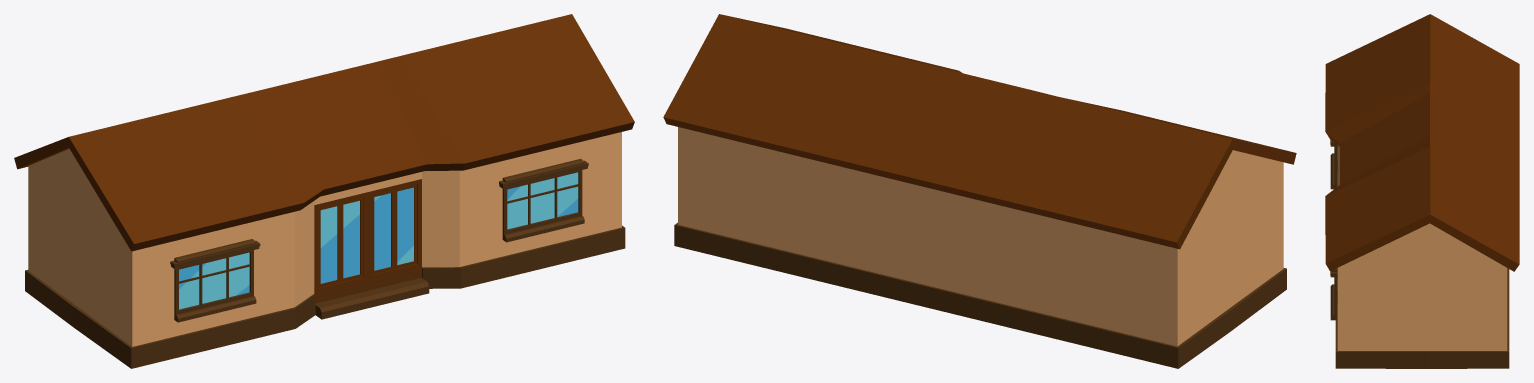
File: Env_ResidentBuilding_06.fbx
The picture shows the model from 3 angles, left to right: view 1: azimuth 30°, elevation 25°; view 2: azimuth 150°, elevation 25°; view 3: azimuth 270°, elevation 25°; orthographic projection. The views are drawn at different scales.
Visible parts, largest first — view 1: Env_ResidentBuilding_06; view 2: Env_ResidentBuilding_06; view 3: Env_ResidentBuilding_06.
Part boxes in pixels (left/top/right/bottom): Env_ResidentBuilding_06: left=14, top=14, right=634, bottom=368; Env_ResidentBuilding_06: left=663, top=14, right=1296, bottom=368; Env_ResidentBuilding_06: left=1325, top=14, right=1519, bottom=368.
Size of the model in its own units: 1594 by 577 by 652.
